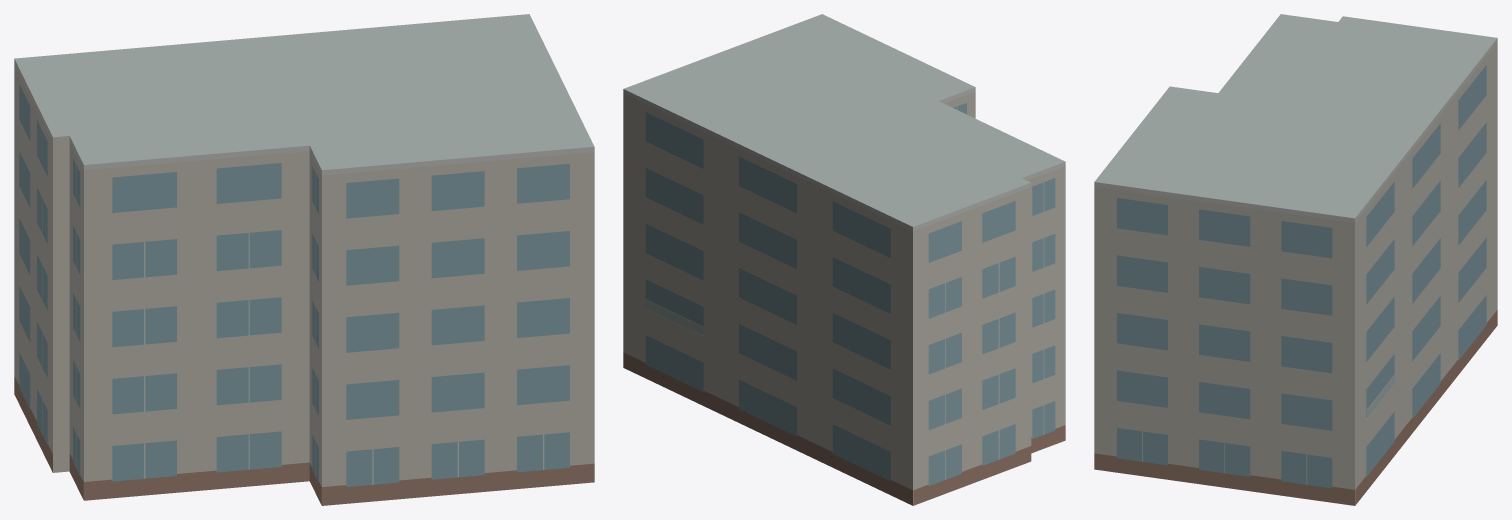
The model's file is survey-upis-32603572.glb.
The picture shows the model from 3 angles, left to right: view 1: azimuth 30°, elevation 25°; view 2: azimuth 150°, elevation 25°; view 3: azimuth 270°, elevation 25°; orthographic projection. The views are drawn at different scales.
Visible parts, largest first — view 1: survey-upis-32603572.tmp; view 2: survey-upis-32603572.tmp; view 3: survey-upis-32603572.tmp.
Part boxes in pixels (x1,y1,x2,y2): survey-upis-32603572.tmp: (14,14,594,505); survey-upis-32603572.tmp: (623,14,1065,505); survey-upis-32603572.tmp: (1094,14,1497,505).
Size of the model in its own units: 23.26 by 15.25 by 19.4.
